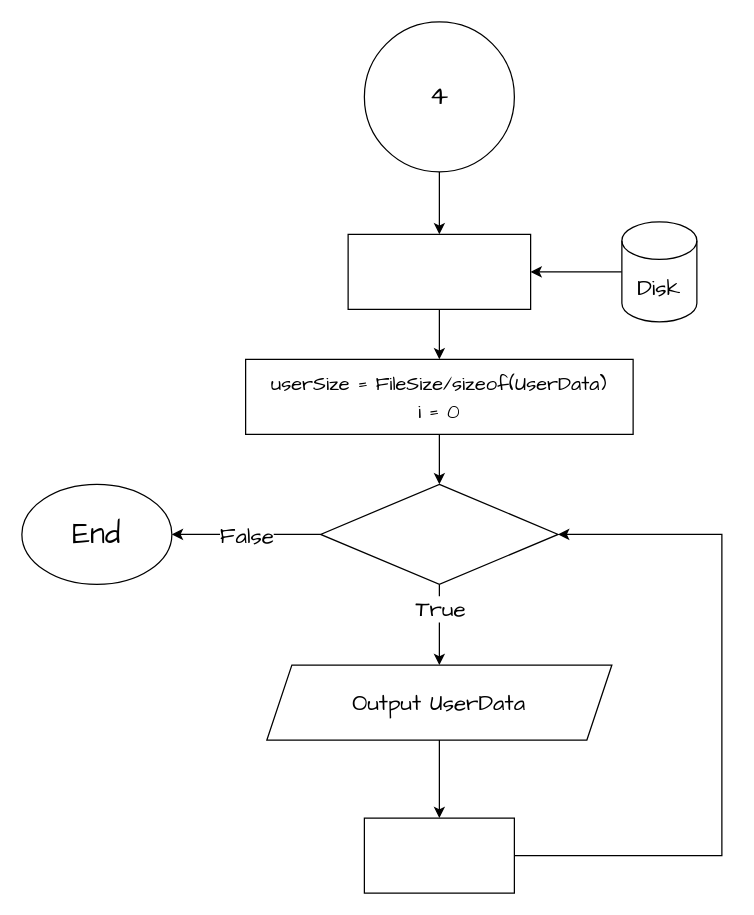
This 754x915 diagram has some shape labels left out. The shapes that lost their labels are listed below. From the top down, each one's centre as x and y in pixels, then its label:
At point (439, 271): "Read From File".
At point (438, 533): "If i < userSize".
At point (438, 855): "i = i + 1".
